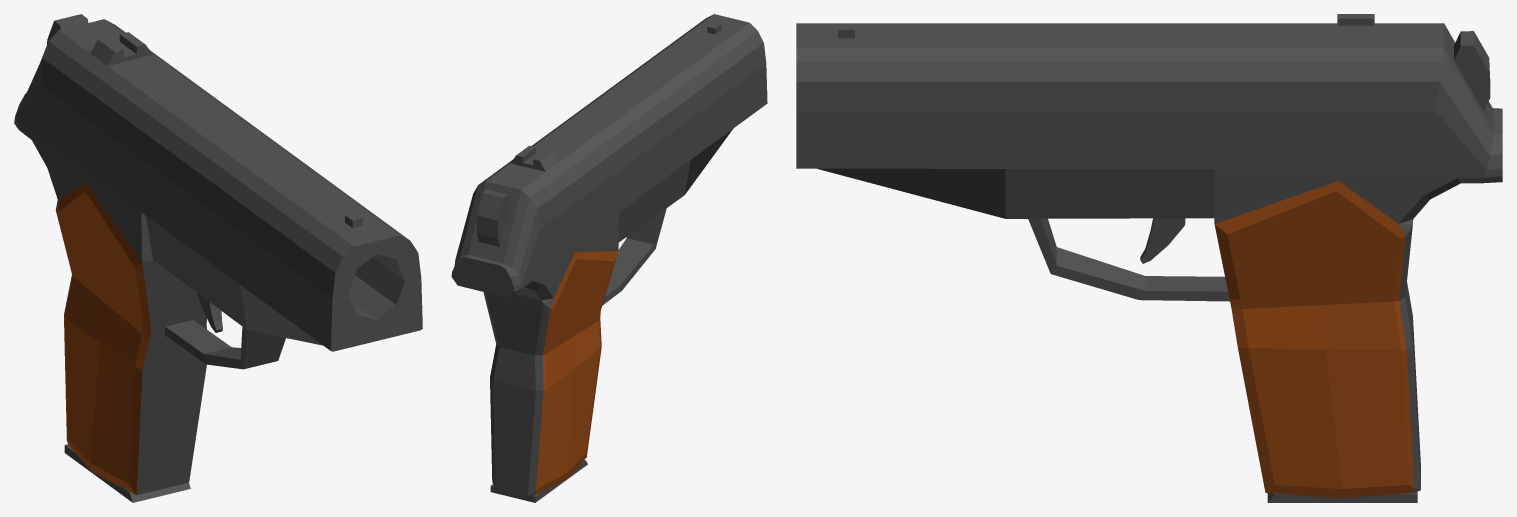
The model's file is FMP_Makarov.fbx.
The picture shows the model from 3 angles, left to right: view 1: azimuth 30°, elevation 25°; view 2: azimuth 150°, elevation 25°; view 3: azimuth 270°, elevation 25°; orthographic projection. The views are drawn at different scales.
Parts seen in each view (by area): view 1: MakarovBody, MakarovMag; view 2: MakarovBody, MakarovMag; view 3: MakarovBody, MakarovMag.
Part boxes in pixels (x1,y1,x2,y2): MakarovBody: (14,14,422,495); MakarovMag: (64,444,190,502); MakarovBody: (451,14,767,496); MakarovMag: (490,459,587,502); MakarovBody: (796,14,1502,497); MakarovMag: (1267,491,1417,502).
Bounding box in the file's own units: 0.0458 × 0.2778 × 0.2019.
